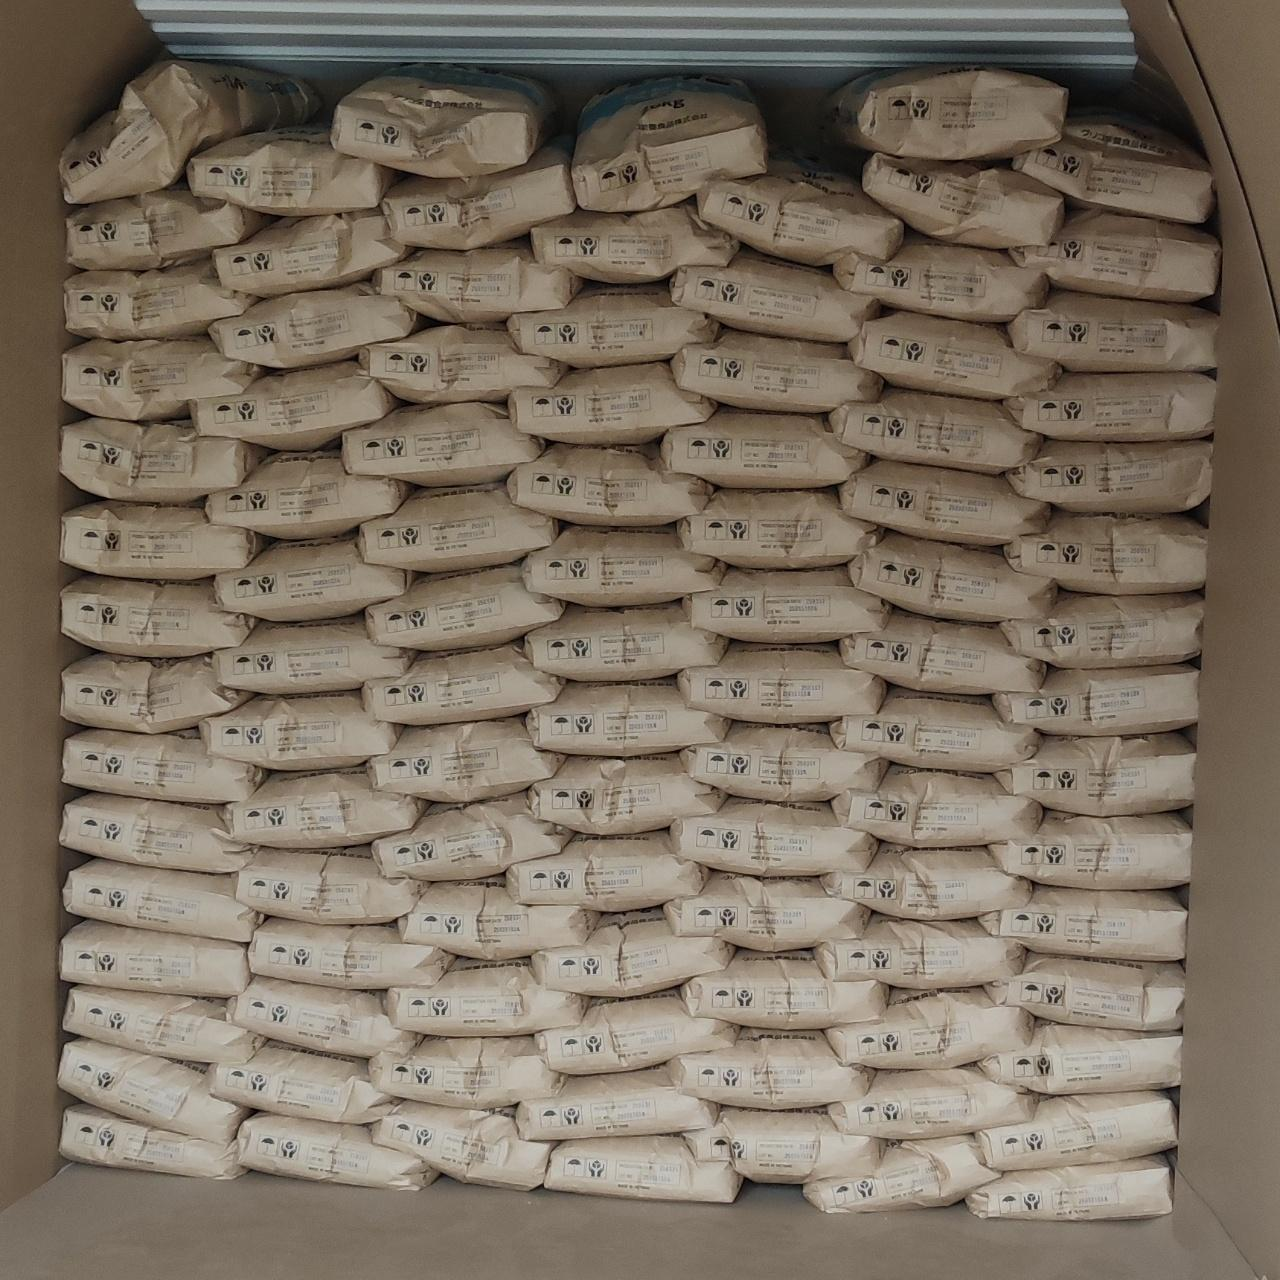sack: (62, 60, 314, 202), (574, 80, 765, 206), (334, 72, 556, 173), (824, 68, 1065, 158), (1012, 114, 1212, 222), (696, 158, 903, 263), (672, 250, 878, 342), (384, 147, 574, 246), (60, 1040, 246, 1141), (862, 154, 1062, 246), (1010, 212, 1218, 300), (847, 532, 1054, 620), (188, 128, 396, 215), (835, 232, 1046, 318), (850, 312, 1056, 399), (210, 284, 424, 366), (207, 450, 410, 536), (372, 240, 583, 322), (508, 284, 719, 366), (830, 388, 1039, 470), (535, 910, 731, 996), (68, 184, 270, 268), (62, 418, 266, 502), (195, 362, 399, 445), (842, 610, 1042, 694), (842, 459, 1046, 542), (510, 362, 714, 444), (832, 688, 1036, 770), (374, 794, 572, 878), (216, 536, 414, 620), (672, 331, 878, 411), (835, 765, 1039, 846), (360, 486, 558, 570), (62, 338, 260, 420), (216, 210, 408, 294), (662, 408, 869, 486), (508, 444, 710, 524), (532, 204, 736, 282), (680, 644, 884, 722), (536, 990, 736, 1070), (685, 949, 886, 1028), (1008, 290, 1216, 366), (343, 404, 542, 484), (366, 566, 564, 646), (996, 734, 1194, 813), (666, 1030, 870, 1108), (530, 754, 724, 835), (360, 326, 566, 402), (666, 872, 869, 949), (64, 860, 260, 940), (524, 526, 720, 606), (682, 724, 884, 802), (1006, 512, 1206, 590), (365, 644, 561, 722), (678, 490, 880, 566), (222, 770, 424, 846), (672, 798, 874, 874), (368, 719, 561, 798), (62, 502, 264, 578), (816, 914, 1022, 988), (822, 844, 1028, 918), (508, 832, 704, 910), (828, 990, 1030, 1065), (62, 576, 254, 654), (527, 680, 726, 756), (372, 1102, 550, 1186), (212, 617, 411, 692), (64, 986, 260, 1062), (685, 568, 886, 642), (524, 604, 726, 678), (238, 1114, 436, 1189), (400, 881, 594, 958), (990, 812, 1190, 886), (685, 1108, 884, 1182), (229, 976, 418, 1054), (210, 1042, 394, 1122), (1008, 440, 1210, 512), (976, 1092, 1175, 1166), (200, 692, 399, 765), (66, 260, 254, 338), (980, 886, 1184, 958), (980, 1020, 1180, 1092), (62, 794, 252, 870), (986, 954, 1182, 1028), (62, 654, 248, 731), (518, 1065, 716, 1138), (1002, 592, 1201, 663), (60, 920, 246, 996), (64, 730, 263, 802), (386, 962, 584, 1034), (806, 1136, 998, 1210), (250, 918, 450, 988), (994, 666, 1198, 734), (826, 1068, 1034, 1133), (370, 1036, 560, 1108), (238, 847, 424, 920), (1006, 374, 1214, 438), (60, 1104, 241, 1177), (968, 1156, 1170, 1218), (544, 1136, 738, 1198)
